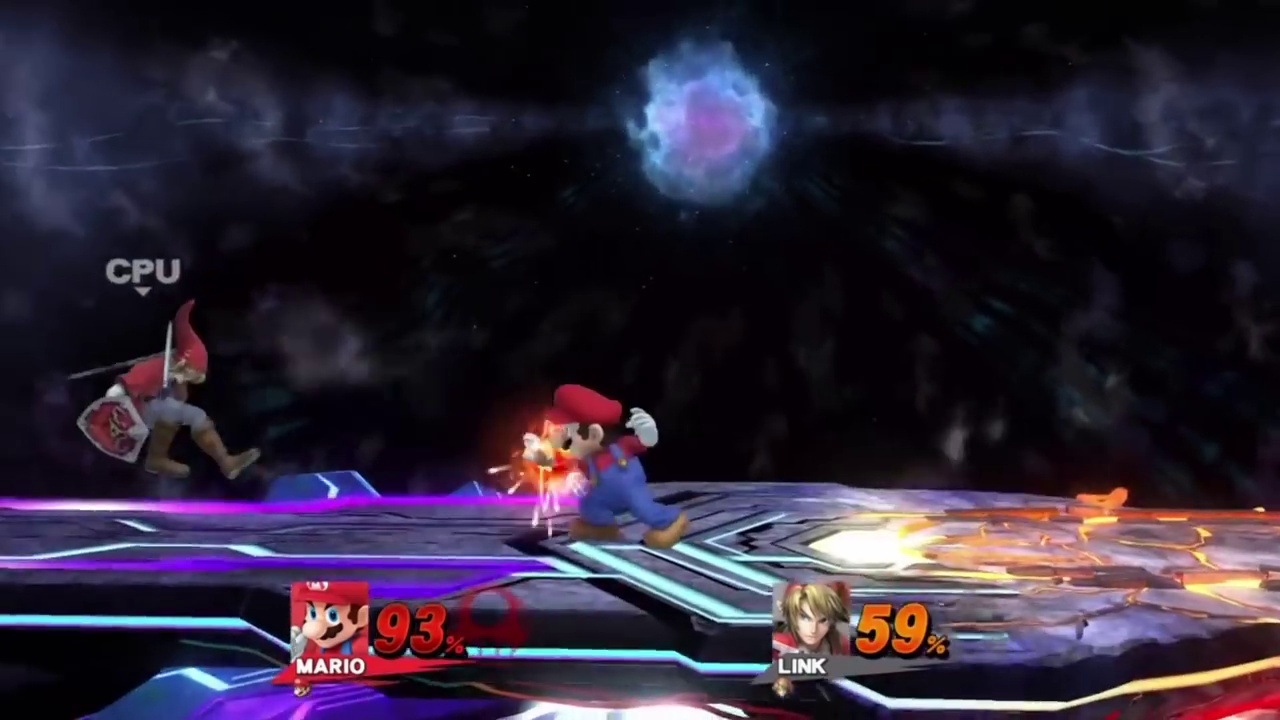Mario: (525, 382, 688, 550)
